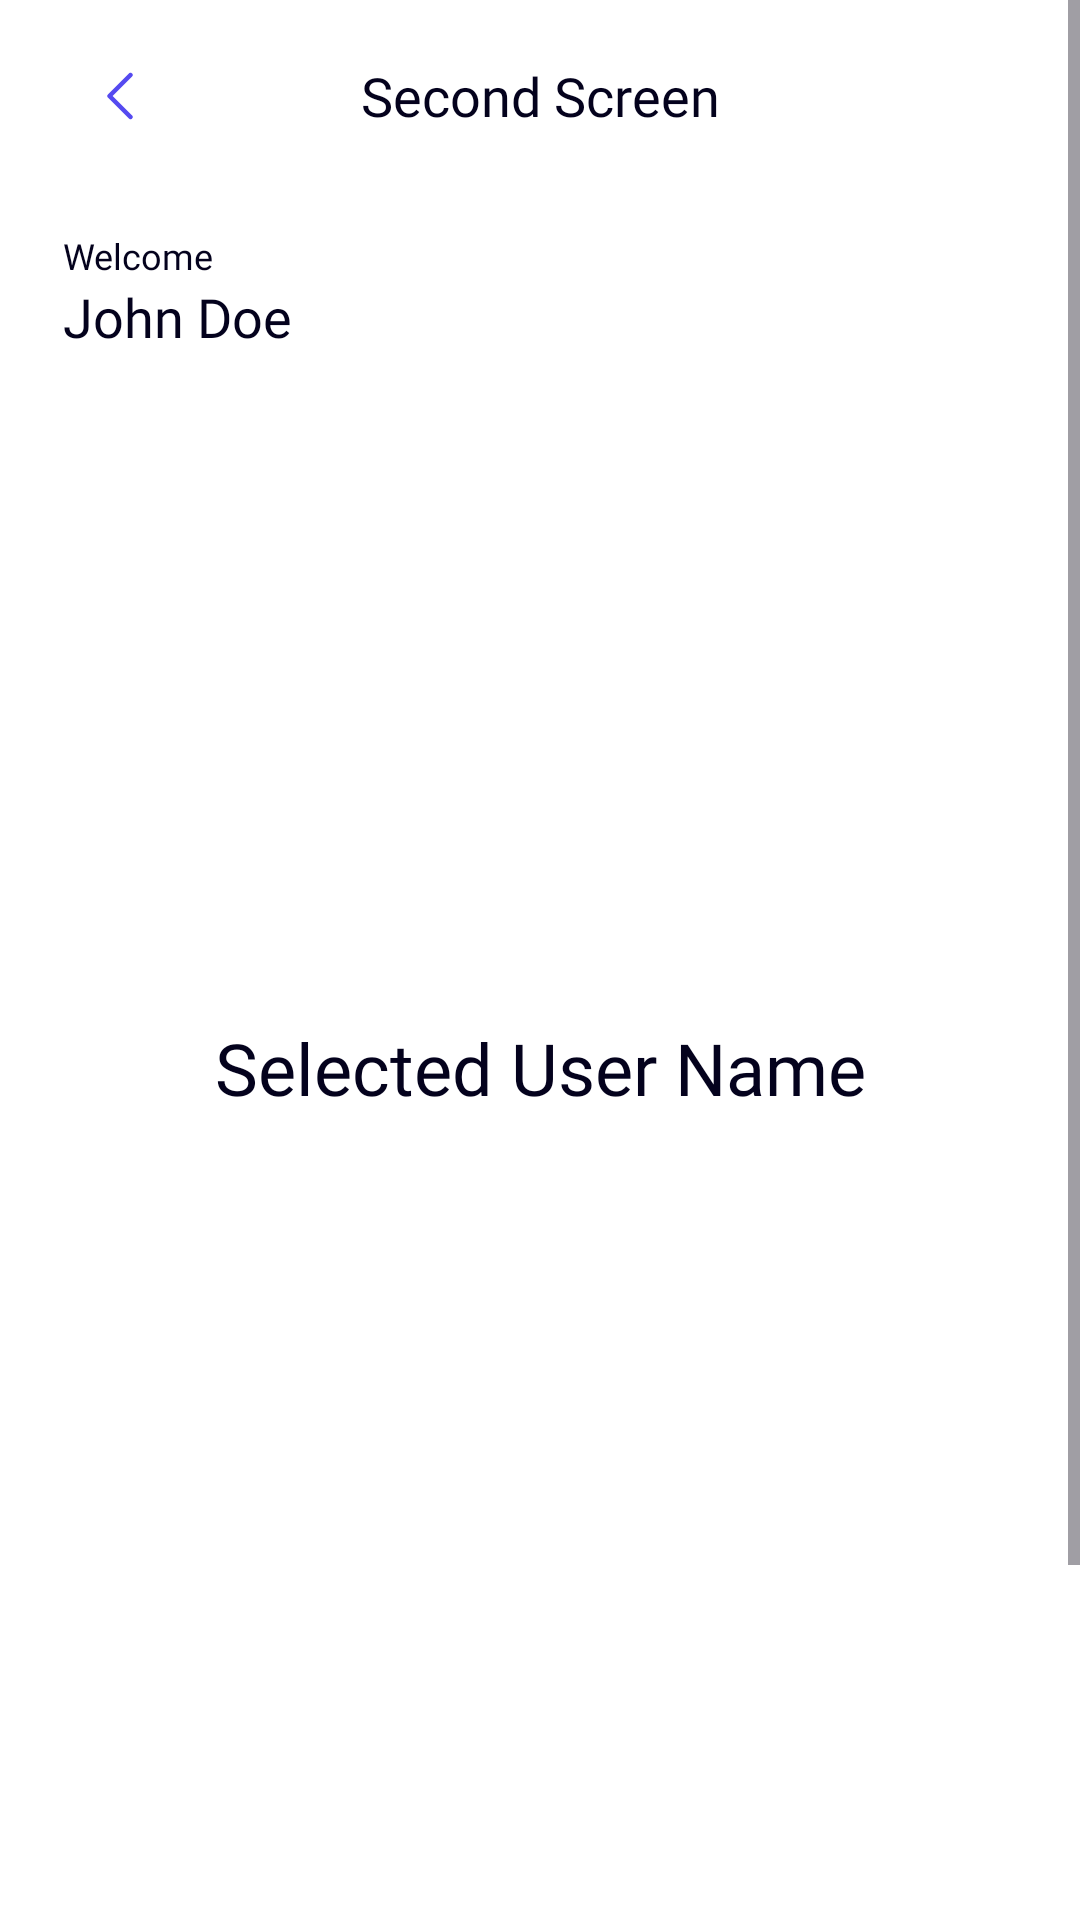

Locate icon controls on the screen. Image size 1080 × 1920, boxes as rect(x1, y1, x2, y2).
Back button: rect(107, 72, 133, 120)
